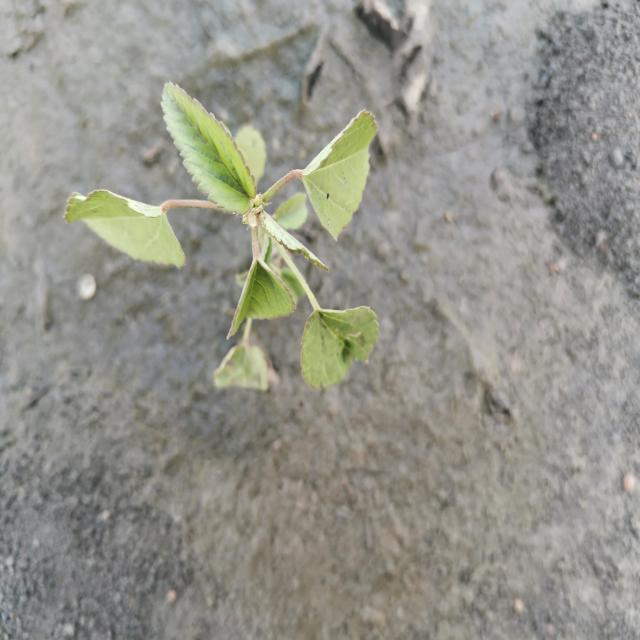PricklySida: (61, 81, 382, 397)
